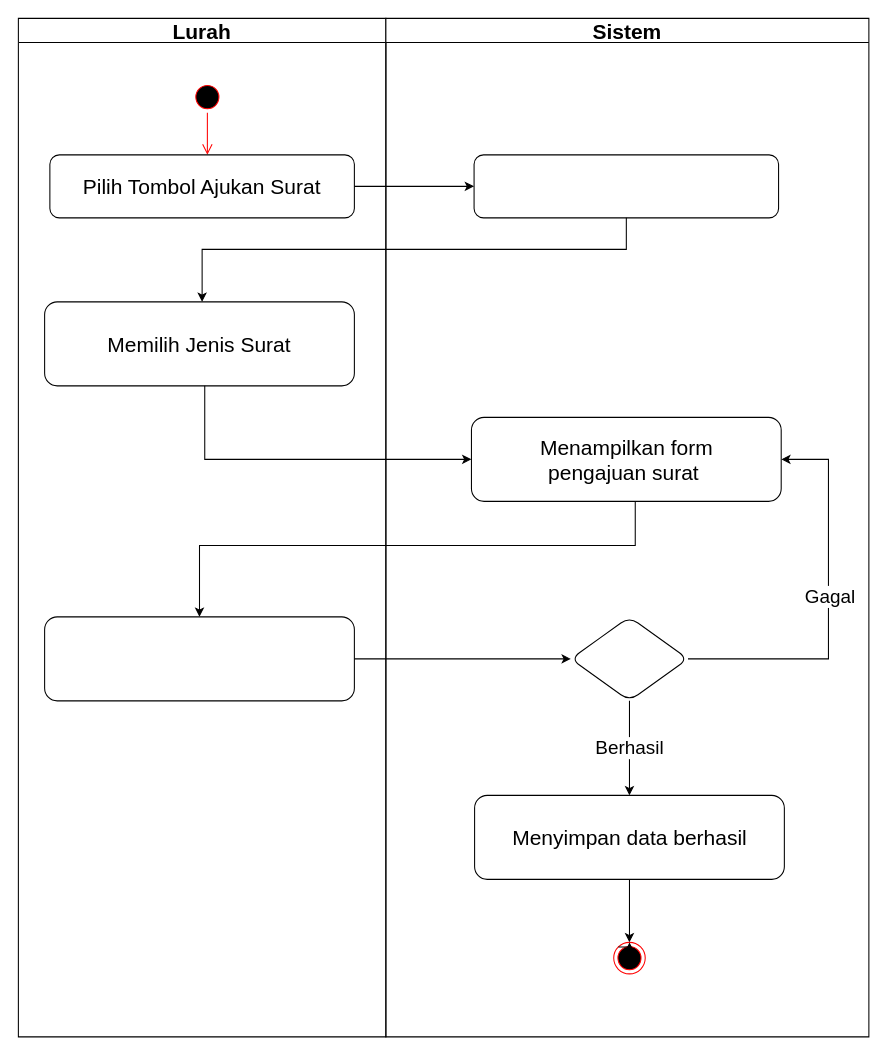
This 887x1055 diagram has some shape labels left out. The centre of each missing label's shape, as x and y in pixels:
"Tambah Pengajuan Surat" goes at (x=199, y=658).
"Tampil Halaman Dashboard" goes at (x=626, y=186).
"Validasi" goes at (x=629, y=658).
